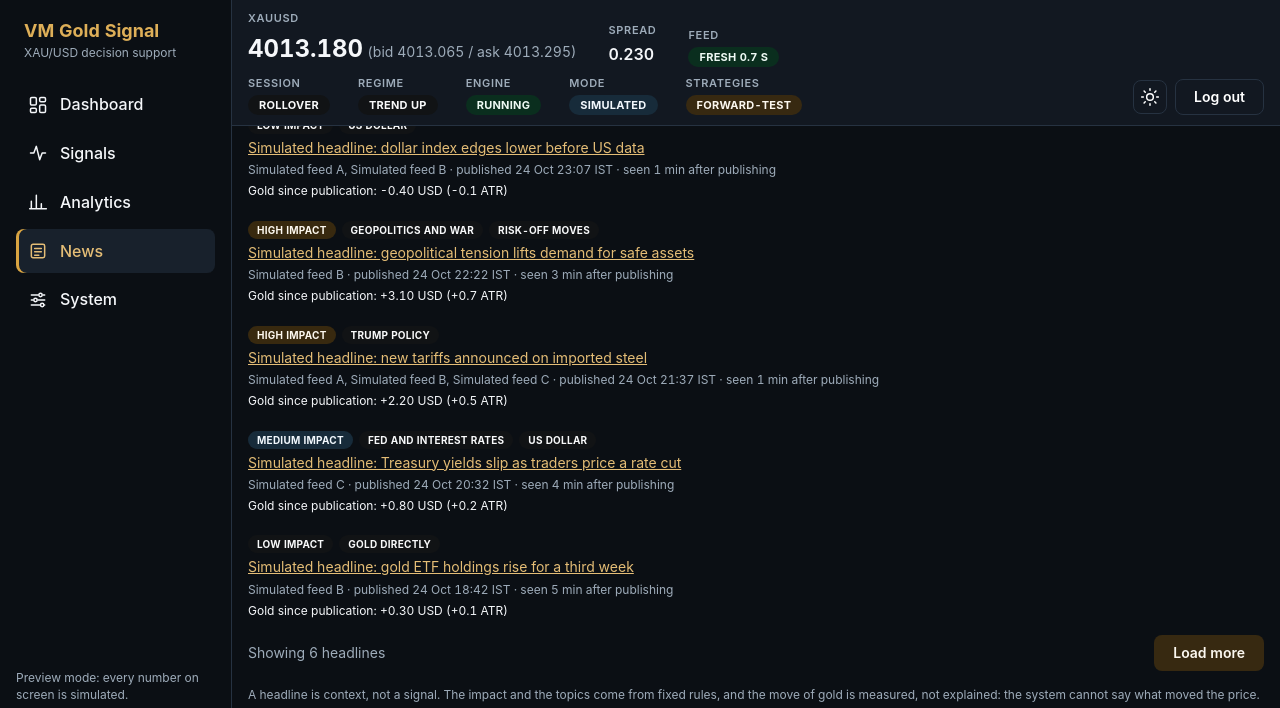
the headlines › loads the next page with the cursor, without repeating a headline
The image size is (1280, 708).
(page scrolled)
expect the list with test id "news-headlines" is shown: met, box [248,11,879,618]
What coordinates should you click on to do the following:
click the button with test id "headlines-load-more"
I would click on:
 (1209, 653)
Its box is [1154,635,1264,671].
(page scrolled)
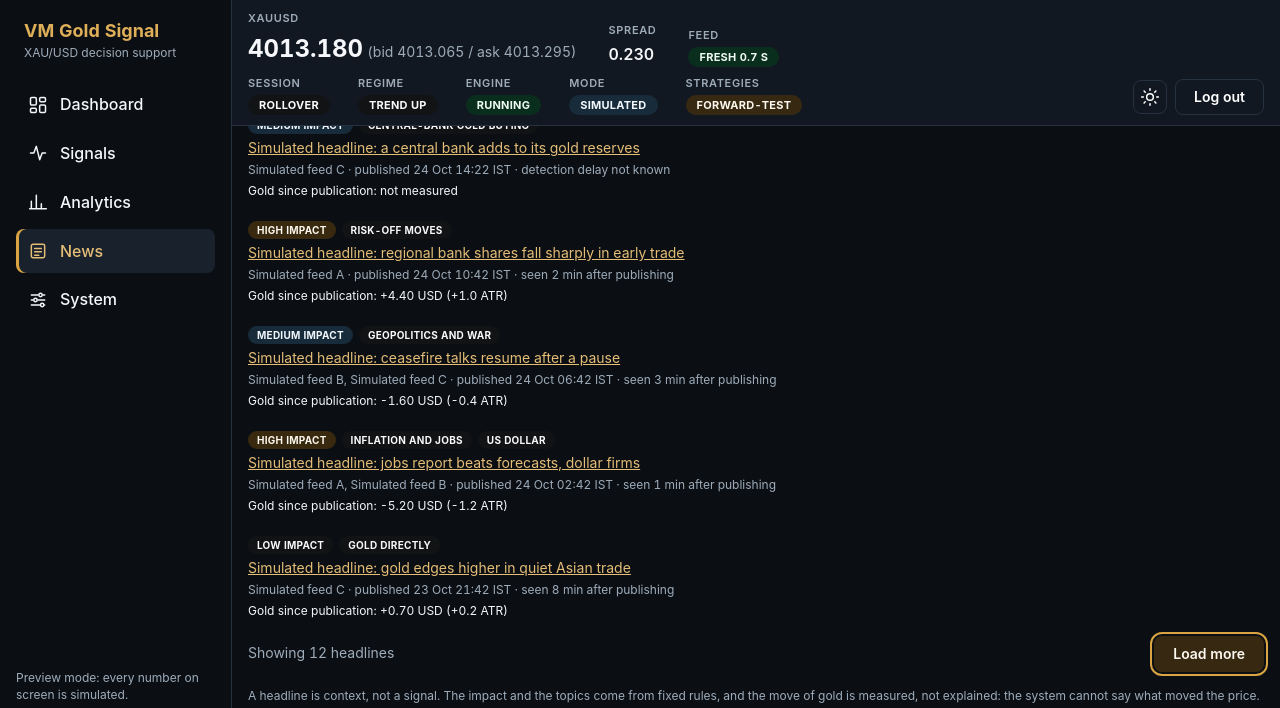
What coordinates should you click on to do the following:
click the button with test id "headlines-load-more"
I would click on:
 (1209, 654)
Its box is [1154,636,1264,672].
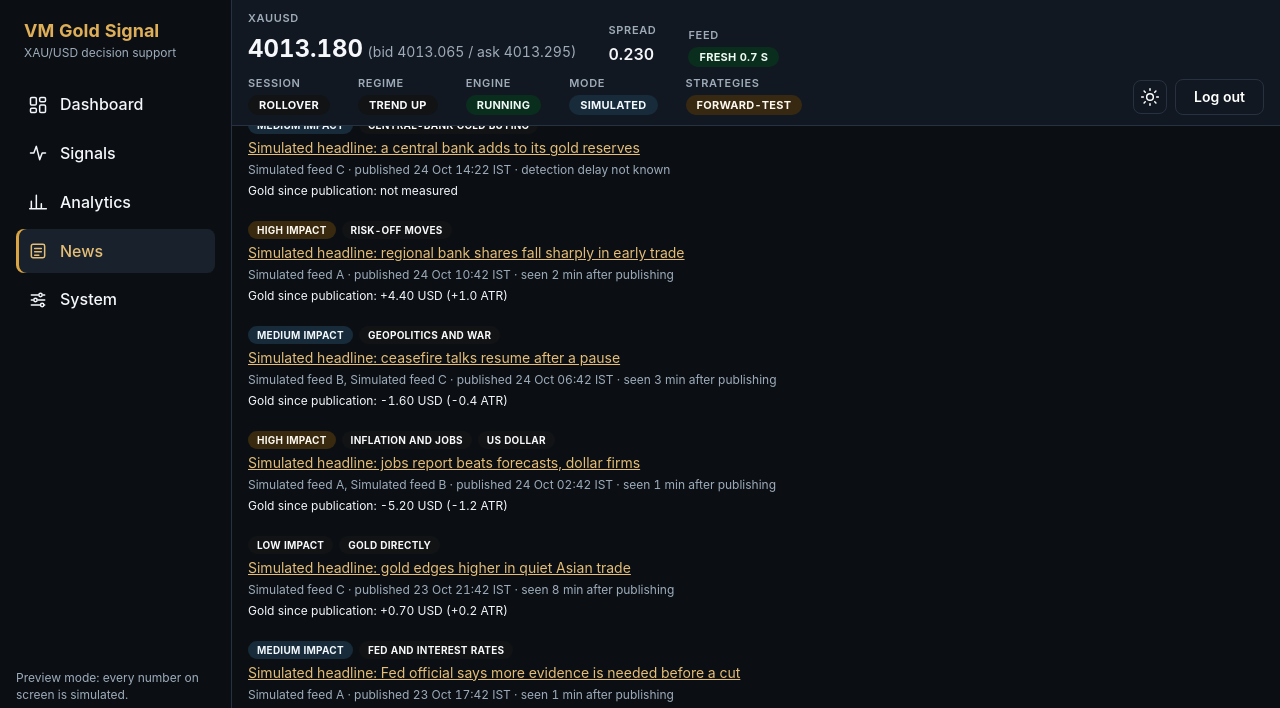
expect the button with test id "headlines-load-more" is gone: met
